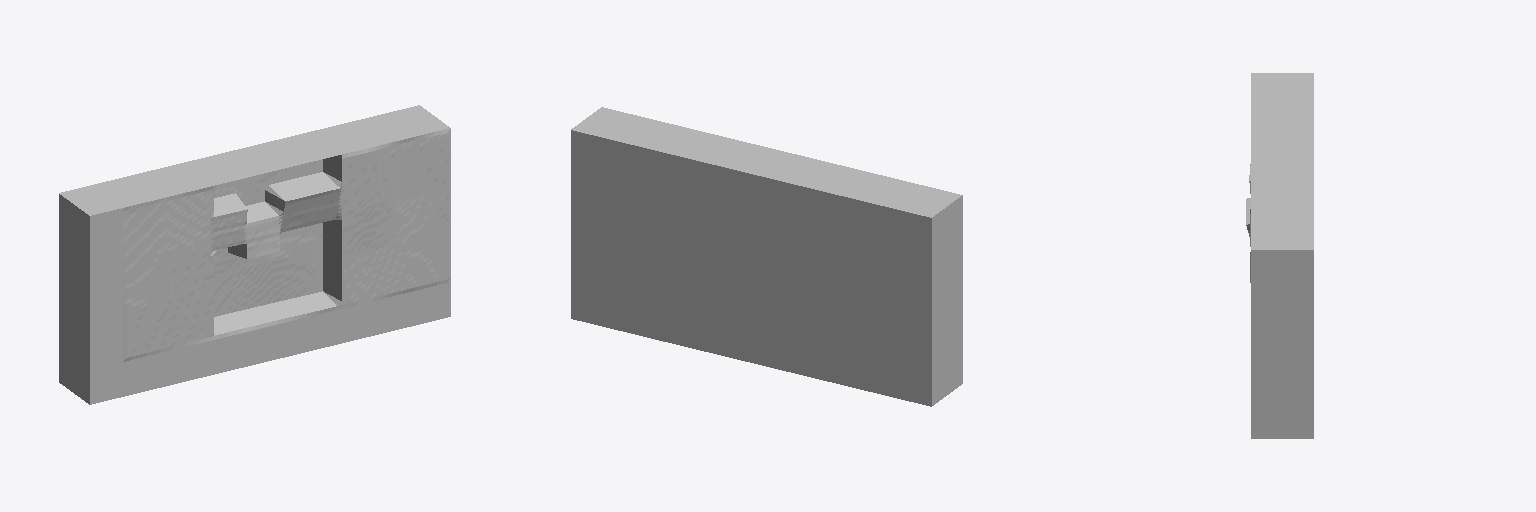
The model's file is rectangular_prism_bumps_1_0.obj.
3 renders of one model, left to right at view 1: azimuth 30°, elevation 25°; view 2: azimuth 150°, elevation 25°; view 3: azimuth 270°, elevation 25°, orthographic.
Bounding box in the file's own units: 10 × 5 × 1.62.